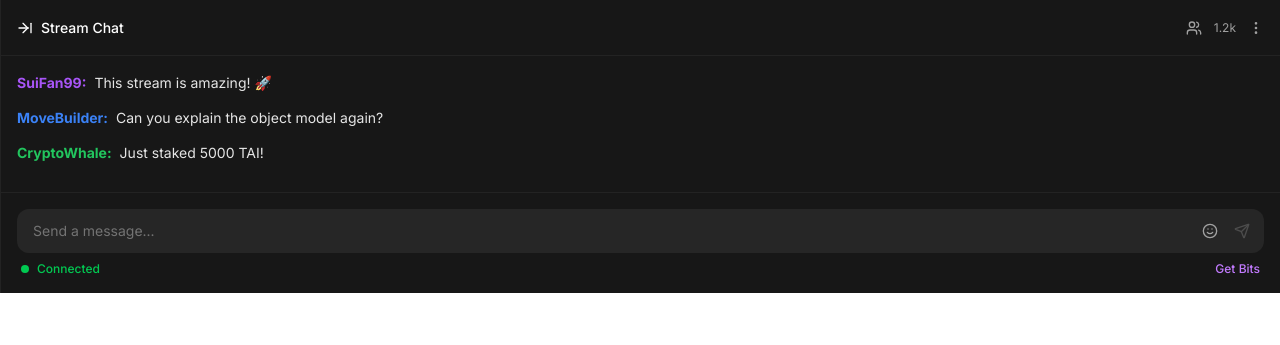
Scenario: LiveChat › should show "You" as sender for user messages
Type "My message" into the field with placeholder "Send a message..." at (640, 231), box [17,209,1264,253]
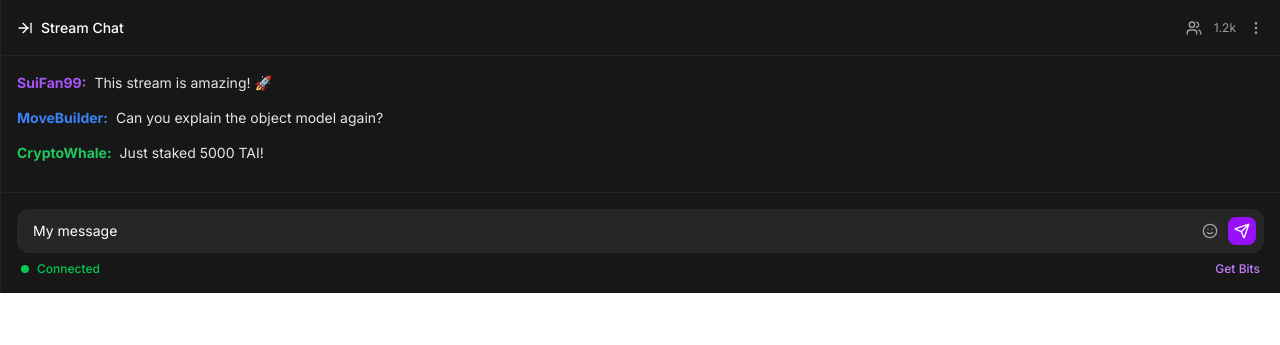
Submit the form with placeholder "Send a message...", box [17,209,1264,253]
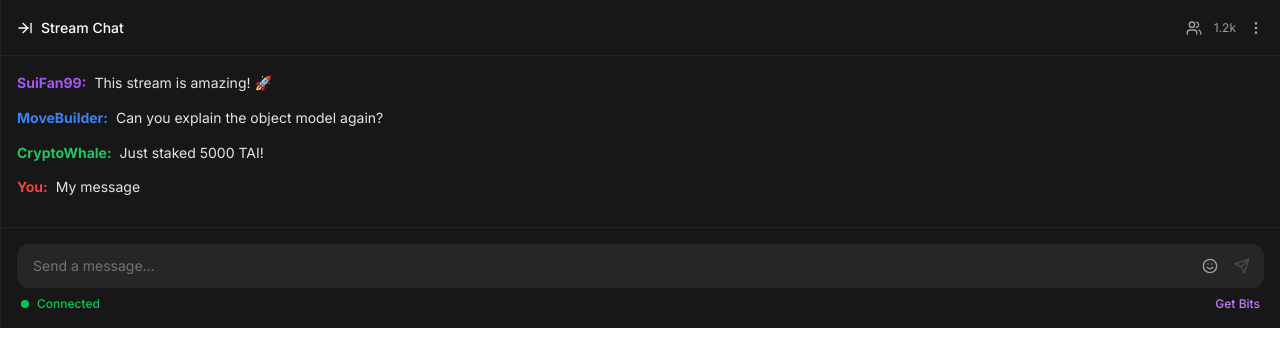
Now the text "You:" is shown, box [17,178,48,195]
